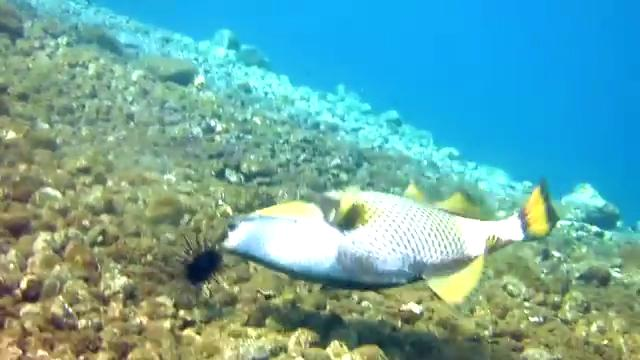urchin: (163, 217, 258, 314)
